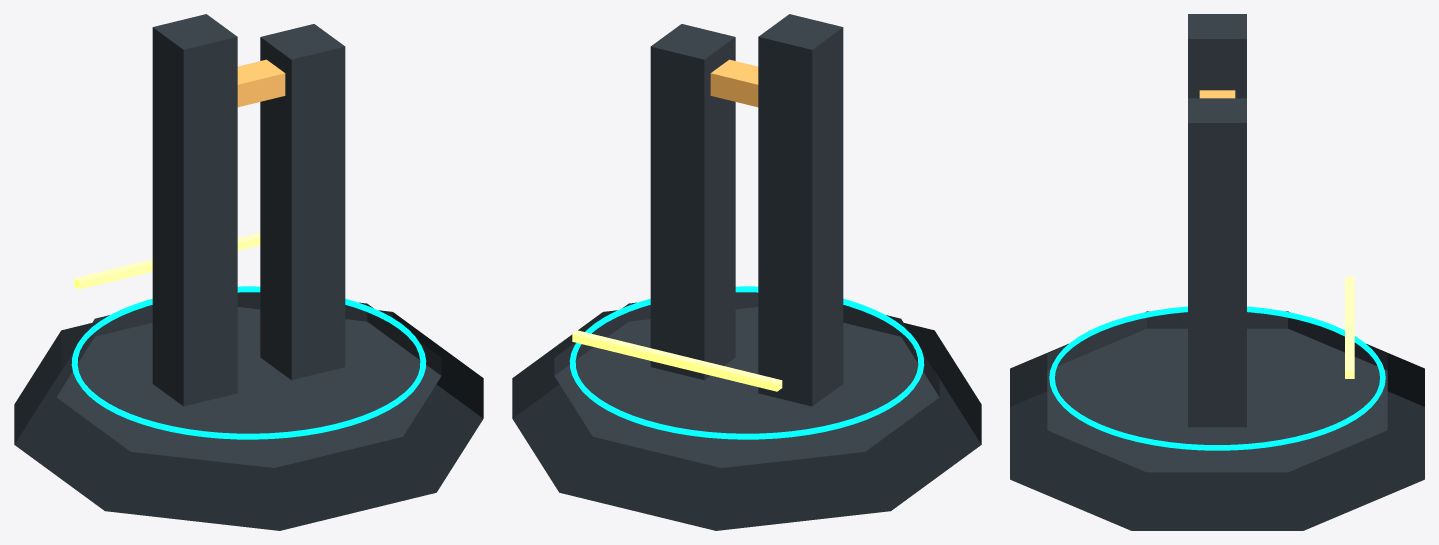
File: district_finance.glb
3 views of the same model, side by side, from view 1: azimuth 30°, elevation 25°; view 2: azimuth 150°, elevation 25°; view 3: azimuth 270°, elevation 25° (orthographic). The views are drawn at different scales.
Visible parts, largest first — view 1: district_finance_octagonal_base, district_finance_upper_plate, district_finance_left_needle_tower, district_finance_right_needle_tower, district_finance_base_cyan_circuit, district_finance_skybridge, district_finance_gold_index_trace; view 2: district_finance_octagonal_base, district_finance_upper_plate, district_finance_left_needle_tower, district_finance_right_needle_tower, district_finance_base_cyan_circuit, district_finance_gold_index_trace, district_finance_skybridge; view 3: district_finance_upper_plate, district_finance_octagonal_base, district_finance_right_needle_tower, district_finance_left_needle_tower, district_finance_base_cyan_circuit, district_finance_gold_index_trace.
Part boxes in pixels (bbox=[...]): district_finance_octagonal_base: bbox=[14, 310, 483, 530]; district_finance_upper_plate: bbox=[56, 292, 441, 467]; district_finance_left_needle_tower: bbox=[152, 14, 237, 406]; district_finance_right_needle_tower: bbox=[260, 24, 345, 380]; district_finance_base_cyan_circuit: bbox=[71, 286, 426, 439]; district_finance_skybridge: bbox=[237, 59, 285, 107]; district_finance_gold_index_trace: bbox=[74, 233, 260, 289]; district_finance_octagonal_base: bbox=[512, 310, 981, 530]; district_finance_upper_plate: bbox=[554, 292, 939, 467]; district_finance_left_needle_tower: bbox=[758, 14, 843, 406]; district_finance_right_needle_tower: bbox=[650, 24, 735, 380]; district_finance_base_cyan_circuit: bbox=[569, 286, 924, 439]; district_finance_gold_index_trace: bbox=[572, 330, 782, 391]; district_finance_skybridge: bbox=[710, 59, 758, 107]; district_finance_upper_plate: bbox=[1047, 311, 1387, 472]; district_finance_octagonal_base: bbox=[1010, 343, 1424, 530]; district_finance_right_needle_tower: bbox=[1188, 98, 1246, 427]; district_finance_left_needle_tower: bbox=[1188, 14, 1246, 98]; district_finance_base_cyan_circuit: bbox=[1049, 306, 1385, 450]; district_finance_gold_index_trace: bbox=[1345, 276, 1354, 378].
Bounding box in the file's own units: 1.76 × 1.83 × 1.76.
